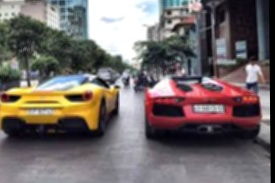Bien-so: (194, 103, 225, 113), (28, 108, 54, 115)
